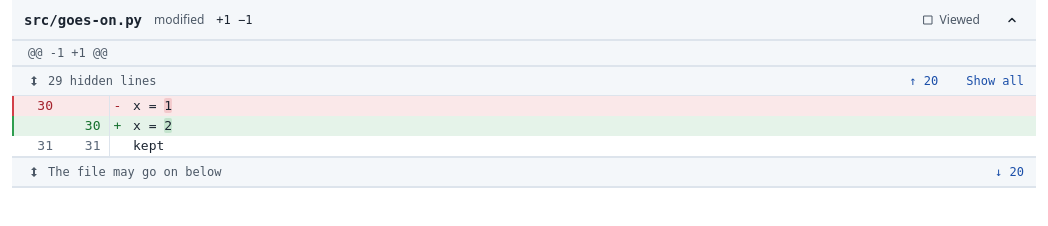
widening the context around a hunk › offers the lines below the last change, and says how many once a read has told
Expected: the element with test id "hunk-gap" shows "The file may go on below", top-left (48, 165), bottom-right (221, 179)
Click the button with test id "expand-down" at (1010, 172), box top-left (983, 158), bottom-right (1036, 186)
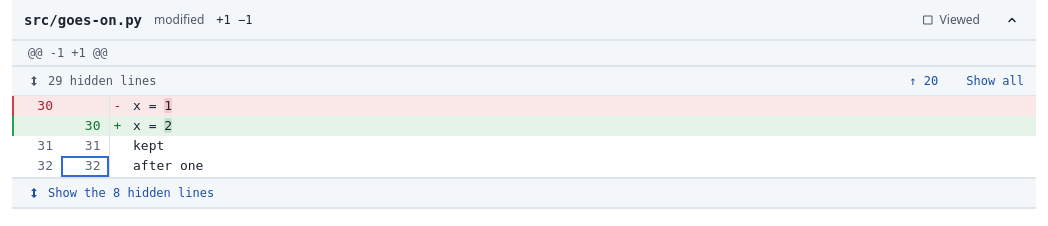
Expected: the text "after one" is shown, top-left (125, 156), bottom-right (1036, 176)
Expected: the element with test id "hunk-gap" reads "Show the 8 hidden lines", top-left (12, 179), bottom-right (1036, 207)
